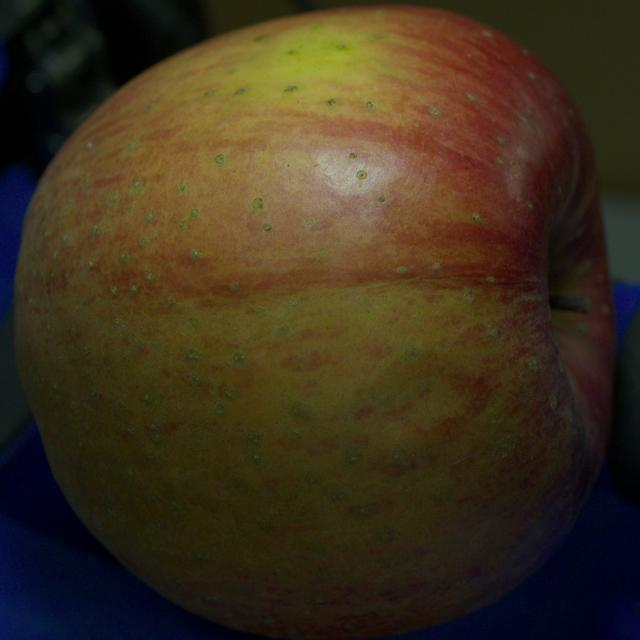apple: (14, 6, 614, 639)
bruise: (348, 351, 482, 450)
